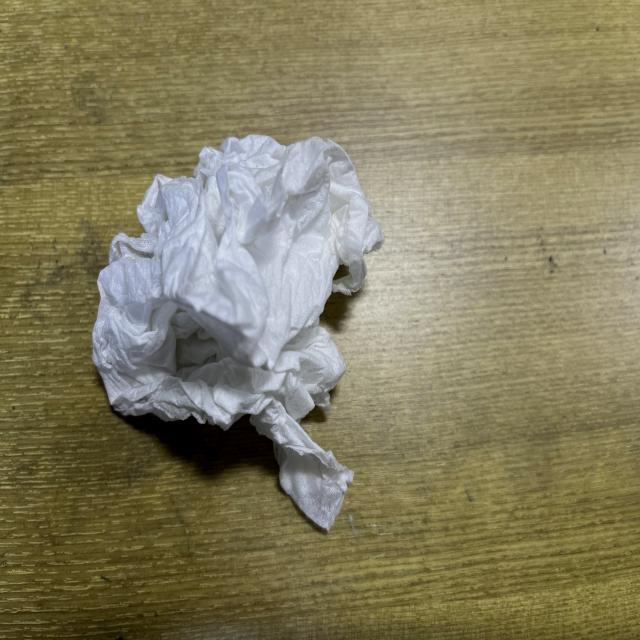Paper: (68, 109, 414, 552)
